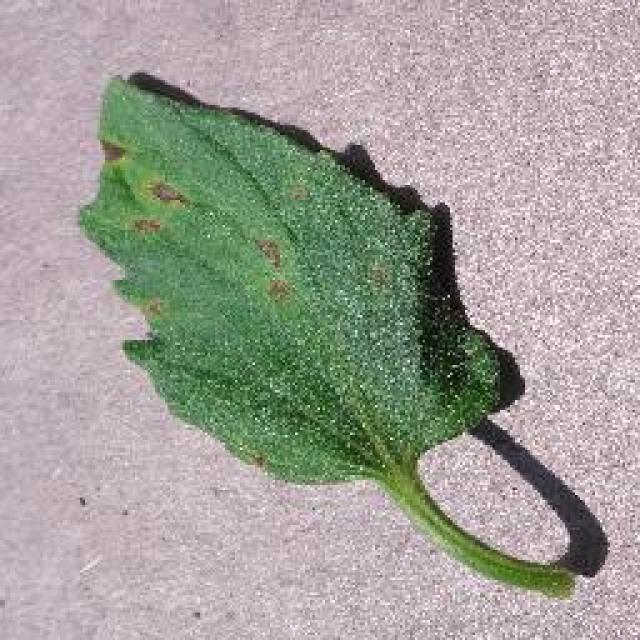Tomato target spot leaf: (78, 69, 510, 489)
